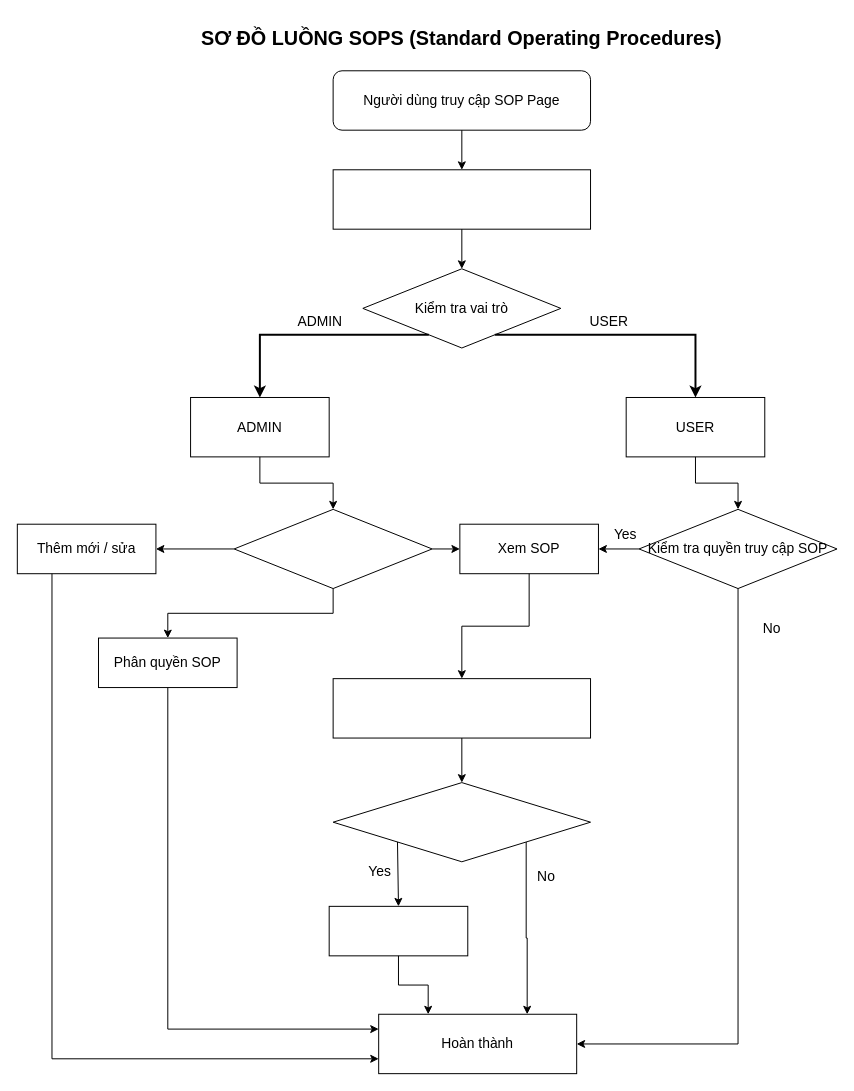
Image size: 854x1091. Some labels were removed from this diagram. The centre of each missing label's shape, as x and y in pixels:
Chọn hành động?: the point at 332,548
Hệ thống tải danh sách SOP: the point at 461,199
Kiểm tra quyền thêm,sửa,xóa chi tiết sop: the point at 461,822
Truy cập trang chi tiết SOP: the point at 461,708
Xem / thêm mới / sửa / xóa: the point at 398,930
